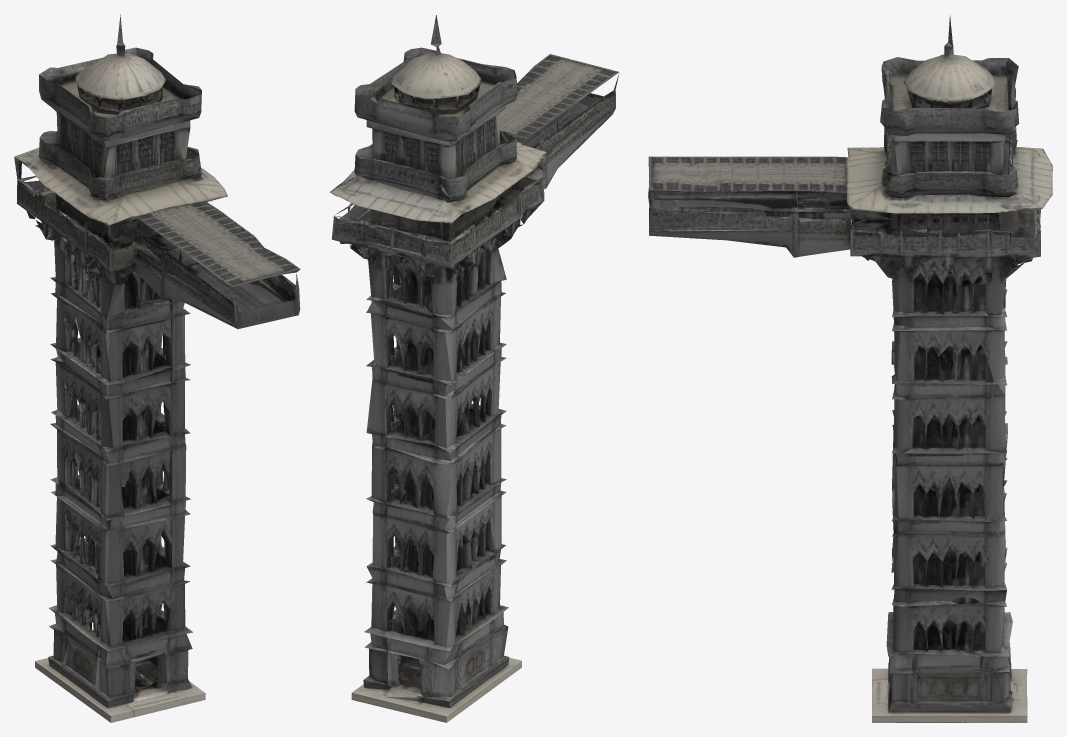
File: elevador.glb
3 renders of one model, left to right at view 1: azimuth 30°, elevation 25°; view 2: azimuth 150°, elevation 25°; view 3: azimuth 270°, elevation 25°, orthographic. The views are drawn at different scales.
Parts seen in each view (by area): view 1: elevador; view 2: elevador; view 3: elevador.
Part boxes in pixels (<box>): elevador: <box>14,14,300,722</box>; elevador: <box>329,15,619,722</box>; elevador: <box>648,15,1052,722</box>.
Size of the model in its own units: 0.4256 by 2 by 1.07.
Materials: 1 (1 with a texture image).
